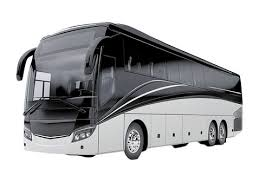bus: (16, 21, 244, 160)
